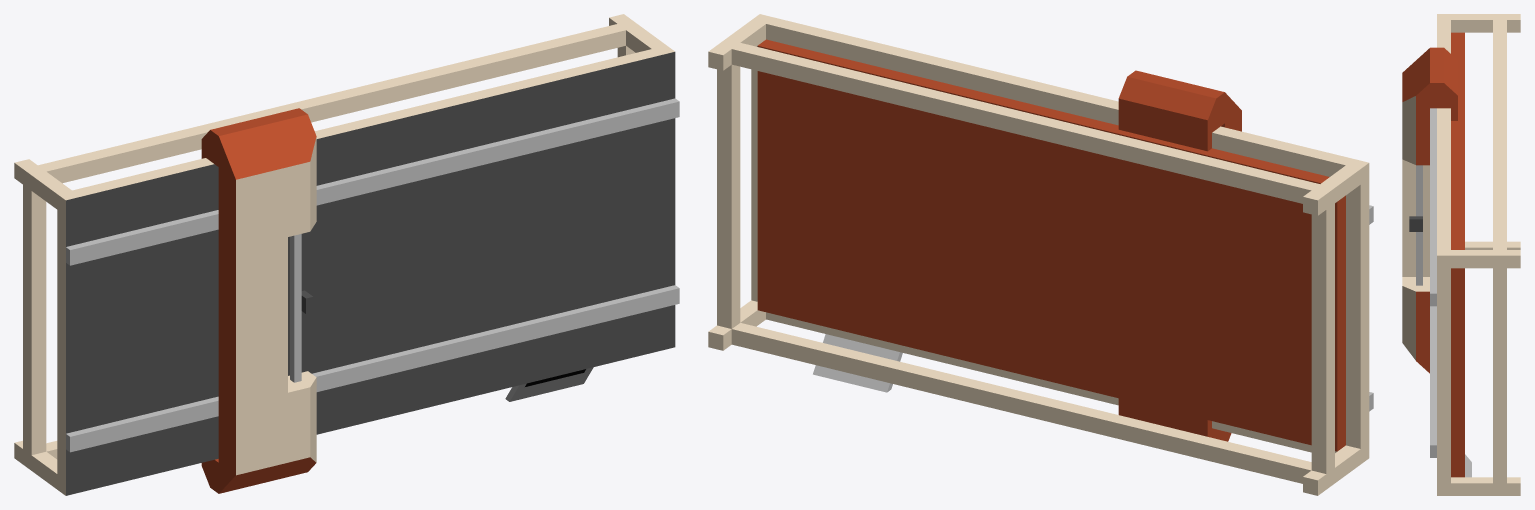
File: cnc_cutting_machine_6_state_1.dae
3 views of the same model, side by side, from view 1: azimuth 30°, elevation 25°; view 2: azimuth 150°, elevation 25°; view 3: azimuth 270°, elevation 25° (orthographic). The views are drawn at different scales.
Visible parts, largest first — view 1: coords_ME_ID85_MA_material, coords_ME_ID3_MA_material_12, coords_ME_ID27_MA_material, coords_ME_ID67_MA_material, coords_ME_ID55_MA_material_12, coords_ME_ID11_MA_material_14, coords_ME_ID19_MA_material_11, coords_ME_ID41_MA_material_11, coords_ME_ID61_MA_material_11, coords_ME_ID73_MA_material_11; view 2: coords_ME_ID11_MA_material_14, coords_ME_ID3_MA_material_12, coords_ME_ID73_MA_material_11; view 3: coords_ME_ID3_MA_material_12, coords_ME_ID11_MA_material_14, coords_ME_ID55_MA_material_12, coords_ME_ID41_MA_material_11, coords_ME_ID19_MA_material_11, coords_ME_ID61_MA_material_11, coords_ME_ID35_MA_material.
Part boxes in pixels (x1,y1,x2,y2): coords_ME_ID85_MA_material: (66, 118, 675, 433); coords_ME_ID3_MA_material_12: (14, 14, 674, 495); coords_ME_ID27_MA_material: (66, 52, 675, 246); coords_ME_ID67_MA_material: (66, 305, 675, 495); coords_ME_ID55_MA_material_12: (236, 137, 316, 475); coords_ME_ID11_MA_material_14: (201, 108, 316, 493); coords_ME_ID19_MA_material_11: (66, 285, 679, 452); coords_ME_ID41_MA_material_11: (66, 98, 679, 265); coords_ME_ID61_MA_material_11: (290, 234, 301, 382); coords_ME_ID73_MA_material_11: (505, 367, 593, 401); coords_ME_ID11_MA_material_14: (757, 39, 1345, 451); coords_ME_ID3_MA_material_12: (708, 14, 1369, 495); coords_ME_ID73_MA_material_11: (813, 334, 902, 392); coords_ME_ID3_MA_material_12: (1437, 14, 1520, 495); coords_ME_ID11_MA_material_14: (1402, 32, 1464, 477); coords_ME_ID55_MA_material_12: (1402, 96, 1429, 360); coords_ME_ID41_MA_material_11: (1430, 108, 1436, 306); coords_ME_ID19_MA_material_11: (1430, 306, 1436, 457); coords_ME_ID61_MA_material_11: (1416, 165, 1422, 285); coords_ME_ID35_MA_material: (1409, 216, 1422, 231).
Bounding box in the file's own units: 80.71 × 45.28 × 16.73.
